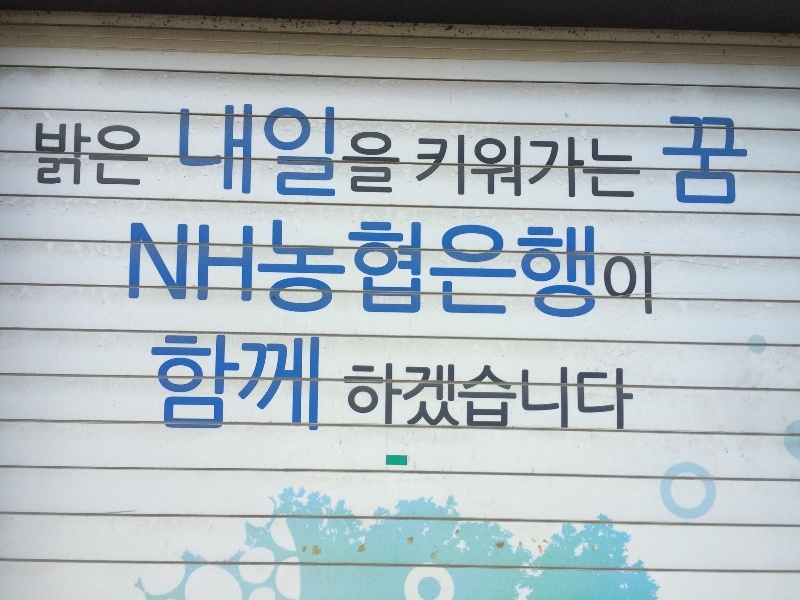text: (321, 96, 337, 201), (129, 216, 144, 324), (145, 216, 160, 324), (161, 216, 176, 324), (177, 216, 192, 324), (193, 216, 208, 324), (209, 216, 224, 324), (225, 216, 240, 324), (241, 216, 256, 324), (257, 216, 272, 324), (273, 216, 288, 324), (289, 216, 304, 324), (305, 216, 320, 324), (321, 216, 336, 324), (337, 216, 352, 324), (353, 216, 368, 324), (369, 216, 384, 324), (385, 216, 400, 324), (401, 216, 416, 324), (417, 216, 432, 324), (433, 216, 448, 324), (449, 216, 464, 324), (465, 216, 480, 324), (481, 216, 496, 324), (497, 216, 512, 324), (513, 216, 528, 324), (529, 216, 544, 324), (545, 216, 560, 324), (561, 216, 576, 324), (577, 216, 592, 324), (193, 96, 208, 201), (209, 96, 224, 201), (225, 96, 240, 201), (241, 96, 256, 201), (257, 96, 272, 201), (273, 96, 288, 201), (289, 96, 304, 201), (305, 96, 320, 201), (161, 330, 176, 435), (177, 330, 192, 435), (193, 330, 208, 435), (209, 330, 224, 435), (225, 330, 240, 435), (241, 330, 256, 435), (257, 330, 272, 435), (273, 330, 288, 435), (289, 330, 304, 435), (305, 330, 320, 435), (146, 330, 160, 435), (657, 113, 672, 206), (673, 113, 688, 206), (689, 113, 704, 206), (705, 113, 720, 206), (721, 113, 736, 206), (179, 96, 192, 201), (625, 360, 641, 435), (353, 360, 368, 435), (369, 360, 384, 435), (385, 360, 400, 435), (401, 360, 416, 435), (417, 360, 432, 435), (433, 360, 448, 435), (449, 360, 464, 435), (465, 360, 480, 435), (481, 360, 496, 435), (497, 360, 512, 435), (513, 360, 528, 435), (529, 360, 544, 435), (545, 360, 560, 435), (561, 360, 576, 435), (577, 360, 592, 435), (593, 360, 608, 435), (609, 360, 624, 435), (737, 113, 749, 206), (33, 120, 48, 190), (49, 120, 64, 190), (65, 120, 80, 190), (81, 120, 96, 190), (97, 120, 112, 190), (113, 120, 128, 190), (129, 120, 144, 190), (417, 132, 432, 202), (433, 132, 448, 202), (449, 132, 464, 202), (465, 132, 480, 202), (481, 132, 496, 202), (497, 132, 512, 202), (513, 132, 528, 202), (529, 132, 544, 202), (545, 132, 560, 202), (561, 132, 576, 202), (577, 132, 592, 202), (593, 132, 608, 202), (609, 132, 624, 202), (625, 132, 640, 202), (609, 250, 624, 320), (625, 250, 640, 320), (641, 250, 656, 320), (353, 127, 368, 195), (369, 127, 384, 195), (385, 127, 400, 195), (339, 360, 352, 435), (339, 127, 352, 195), (593, 216, 600, 324), (145, 120, 154, 190), (603, 250, 608, 320), (321, 330, 324, 435), (29, 120, 32, 190), (641, 132, 644, 202), (401, 127, 403, 195)
